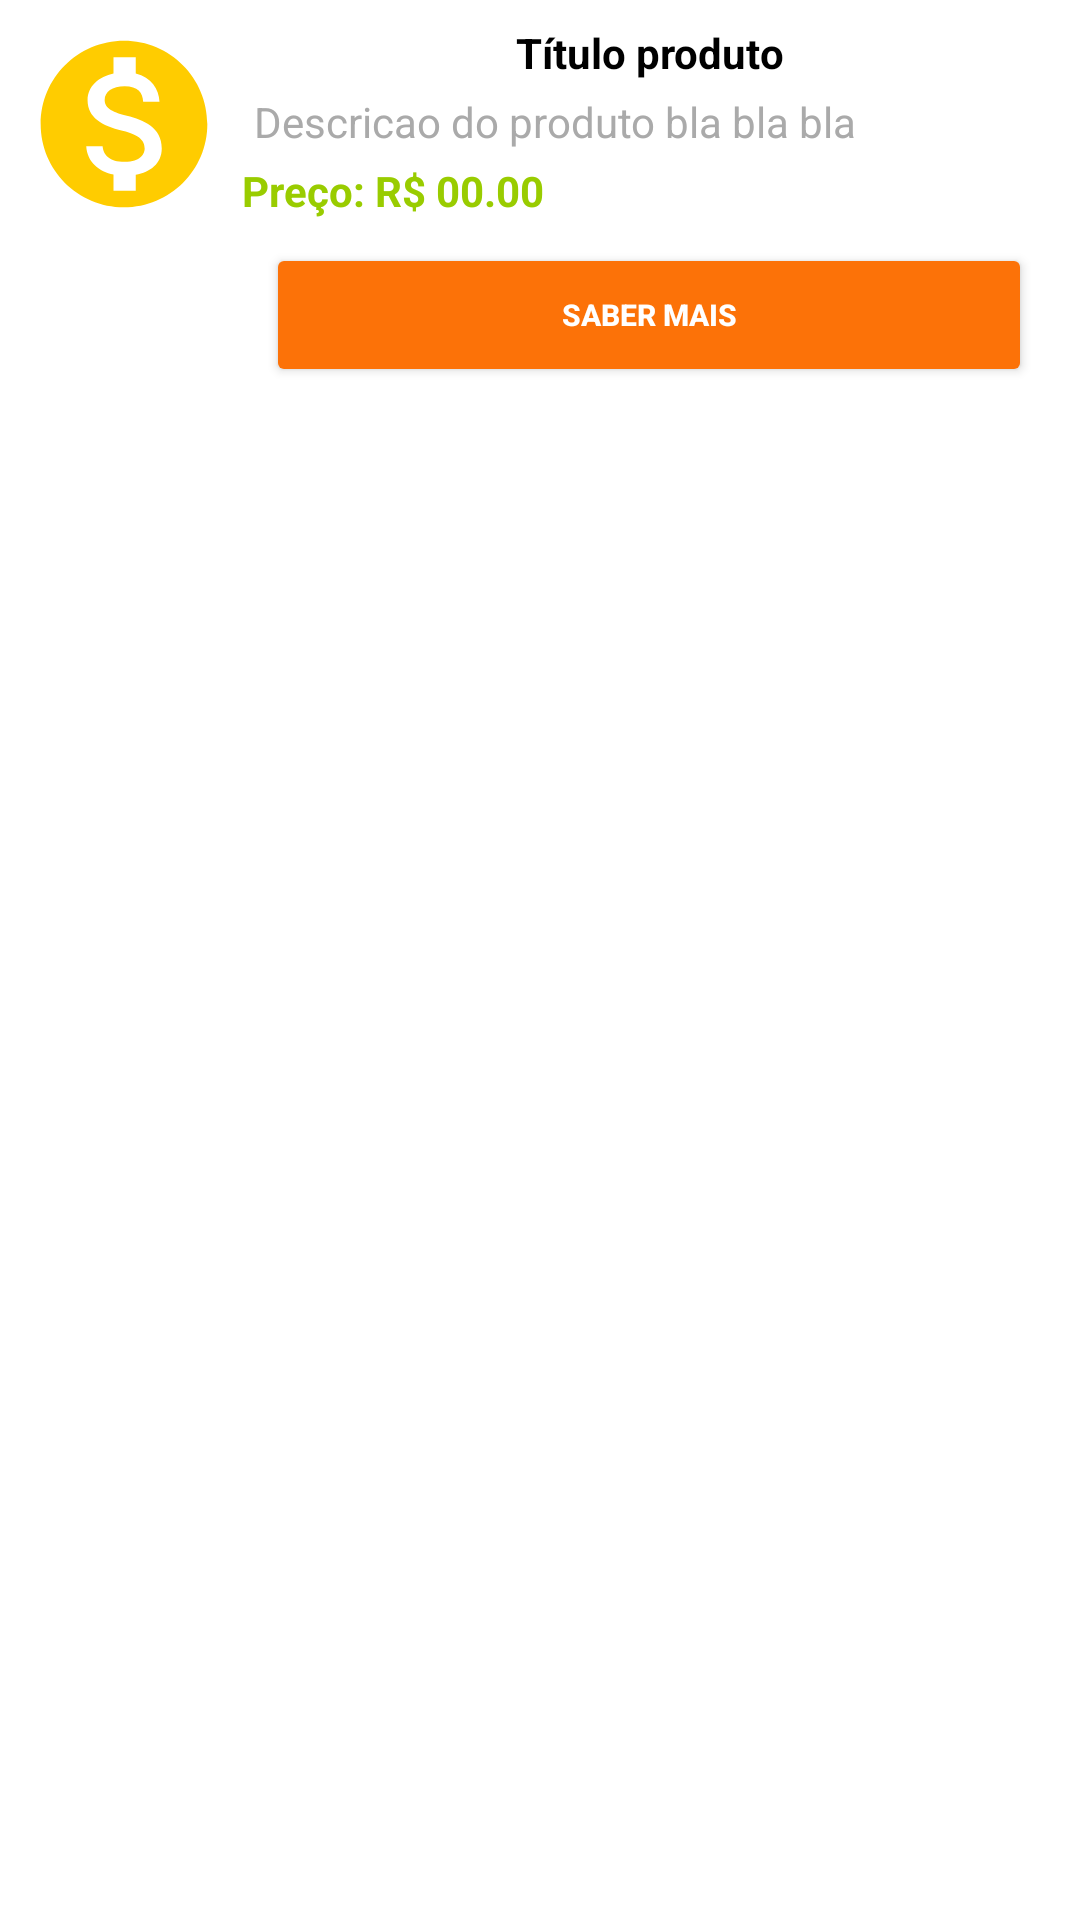

Where to tap for icons on this 1080*1920 app screen, as point (x, y):
monetization on: point (124, 124)
